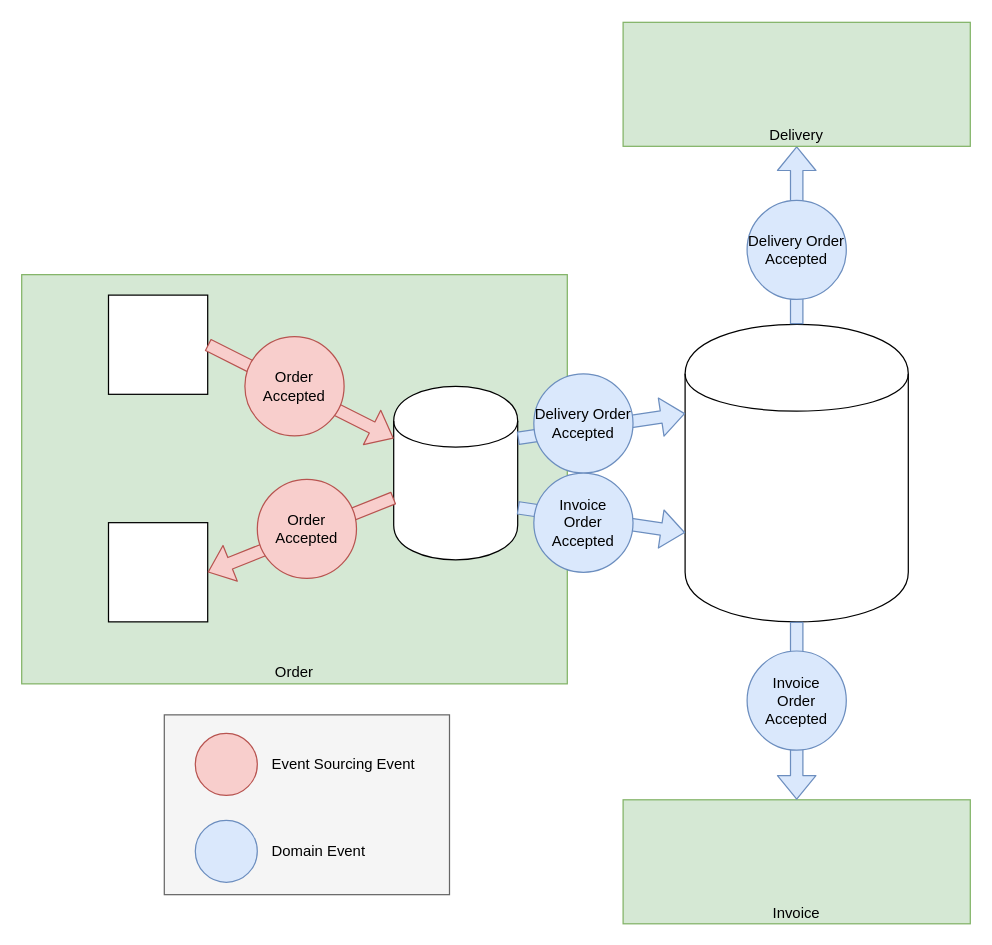
This 992x945 diagram has some shape labels left out. The box of each missing label's shape, as (x1, y1, x2, y2) in pixels:
Global Event Store: (684, 323, 908, 622)
Local Event Store: (392, 385, 518, 560)
Order-Aggregate: (107, 294, 208, 394)
Order-Auditlog: (107, 521, 208, 622)
